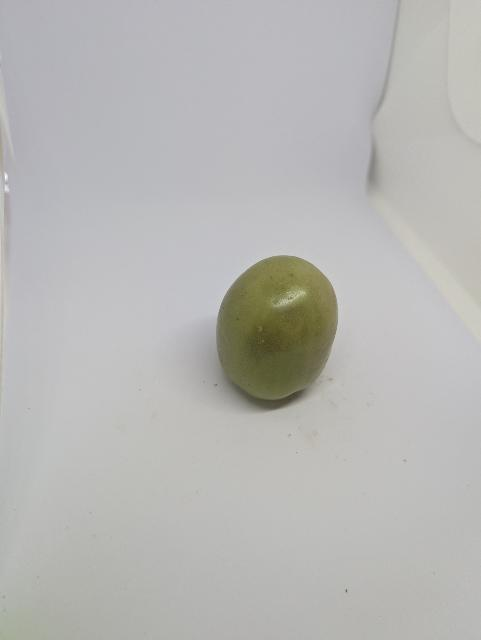green: (202, 244, 361, 435)
